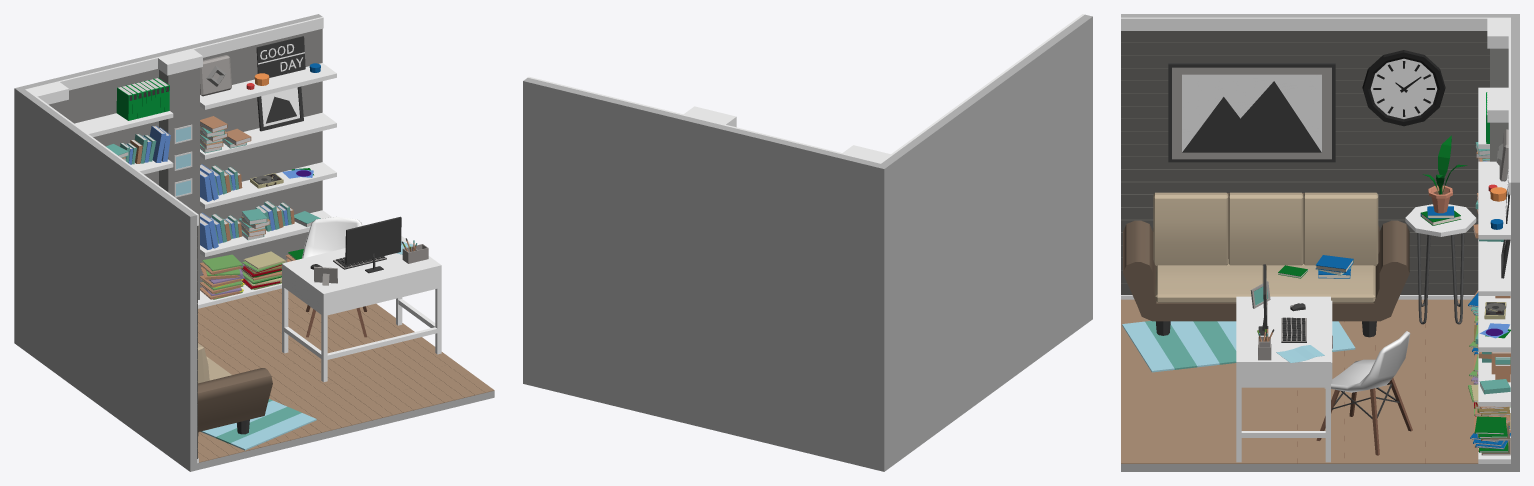
File: LP_Officeroom2.glb
3 views of the same model, side by side, from view 1: azimuth 30°, elevation 25°; view 2: azimuth 150°, elevation 25°; view 3: azimuth 270°, elevation 25° (orthographic). The views are drawn at different scales.
Visible parts, largest first — view 1: Office2_base, Office2_parquet1, Office2_table, Office2_shelves, Office2_sofa, Office2_carpet, Office2_monitor1, Office2_Books5, Office2_chair, Office2_magazines1, Office2_Photoframe_4, Office2_decoration1 (+9 smaller); view 2: Office2_base; view 3: Office2_parquet2, Office2_parquet1, Office2_sofa, Office2_base, Office2_picture, Office2_table, Office2_shelves, Office2_carpet, Office2_clock_1, Office2_chair, Office2_little_table, Office2_magazines3 (+8 smaller).
Part boxes in pixels (<box>): Office2_base: <box>14,14,494,471</box>; Office2_parquet1: <box>198,288,494,462</box>; Office2_table: <box>282,236,441,382</box>; Office2_shelves: <box>74,63,336,308</box>; Office2_sofa: <box>197,343,272,435</box>; Office2_carpet: <box>200,399,316,450</box>; Office2_monitor1: <box>345,216,401,273</box>; Office2_Books5: <box>116,77,169,120</box>; Office2_chair: <box>302,216,367,337</box>; Office2_magazines1: <box>200,254,244,299</box>; Office2_Photoframe_4: <box>257,86,303,131</box>; Office2_decoration1: <box>256,36,305,77</box>; Office2_base: <box>523,14,1092,471</box>; Office2_parquet2: <box>1121,31,1489,294</box>; Office2_parquet1: <box>1121,299,1478,463</box>; Office2_sofa: <box>1123,192,1409,337</box>; Office2_base: <box>1121,14,1519,471</box>; Office2_picture: <box>1168,63,1335,162</box>; Office2_table: <box>1236,296,1332,462</box>; Office2_shelves: <box>1478,87,1510,463</box>; Office2_carpet: <box>1122,321,1355,372</box>; Office2_clock_1: <box>1362,50,1445,126</box>; Office2_chair: <box>1316,331,1412,455</box>; Office2_little_table: <box>1405,204,1476,324</box>; Office2_magazines3: <box>1470,416,1510,455</box>.
Size of the model in its own units: 5.03 by 4.01 by 5.
Materials: 1 (1 with a texture image).
